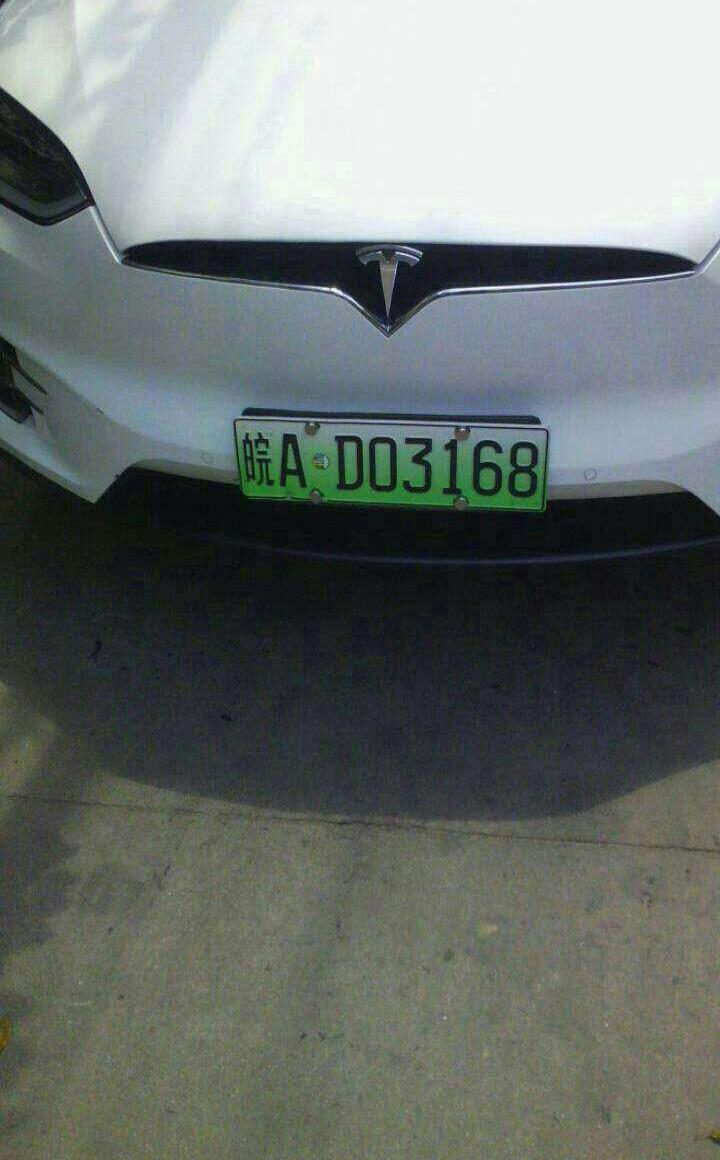car_id: (221, 411, 553, 509)
